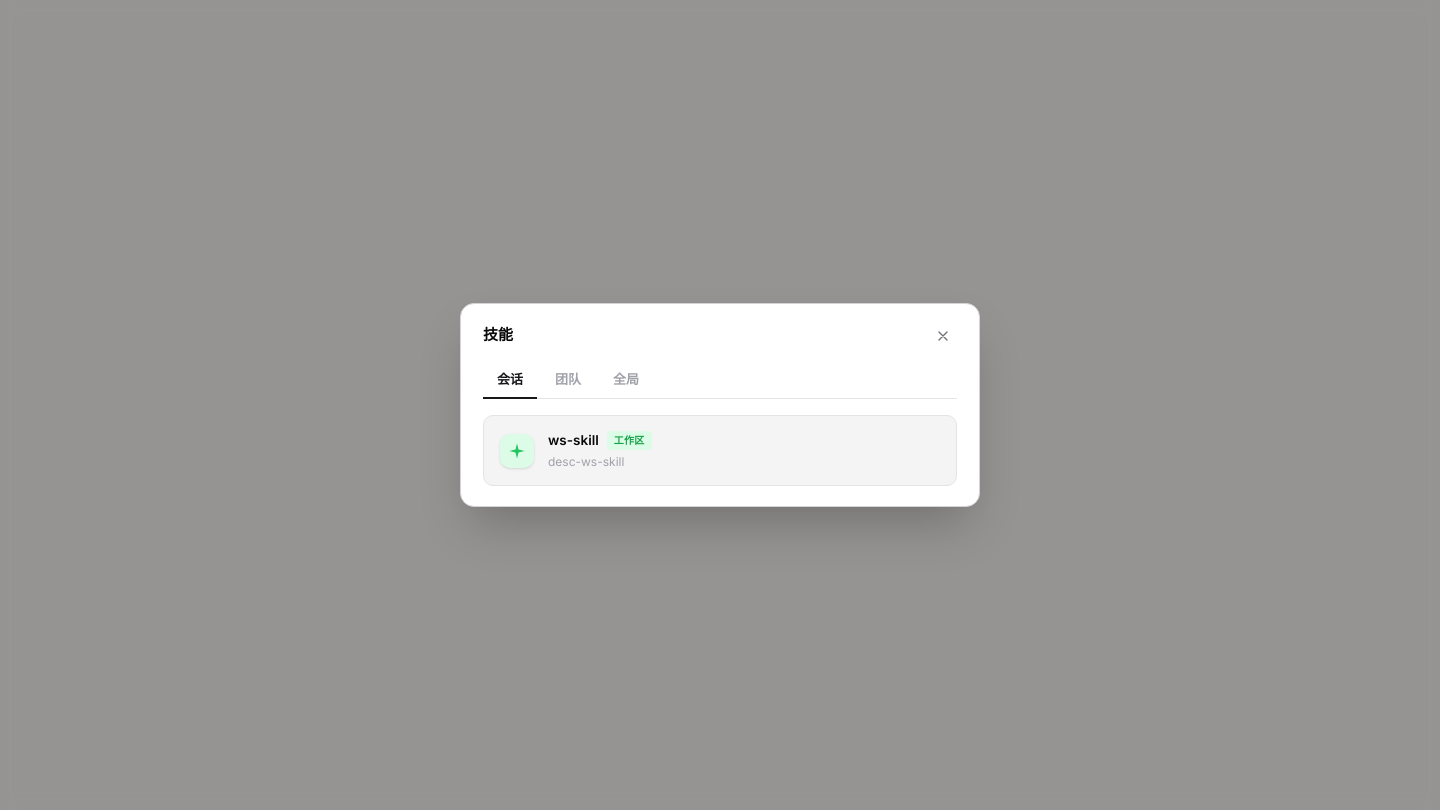
Test: ComponentSkillsModal — 3 tab 结构 › 切到 global tab → 渲染 builtin+app 组卡片（徽标 内置/应用）
The width and height of the screenshot is (1440, 810).
Click the tab "全局": (626, 379) [613,371,639,387]
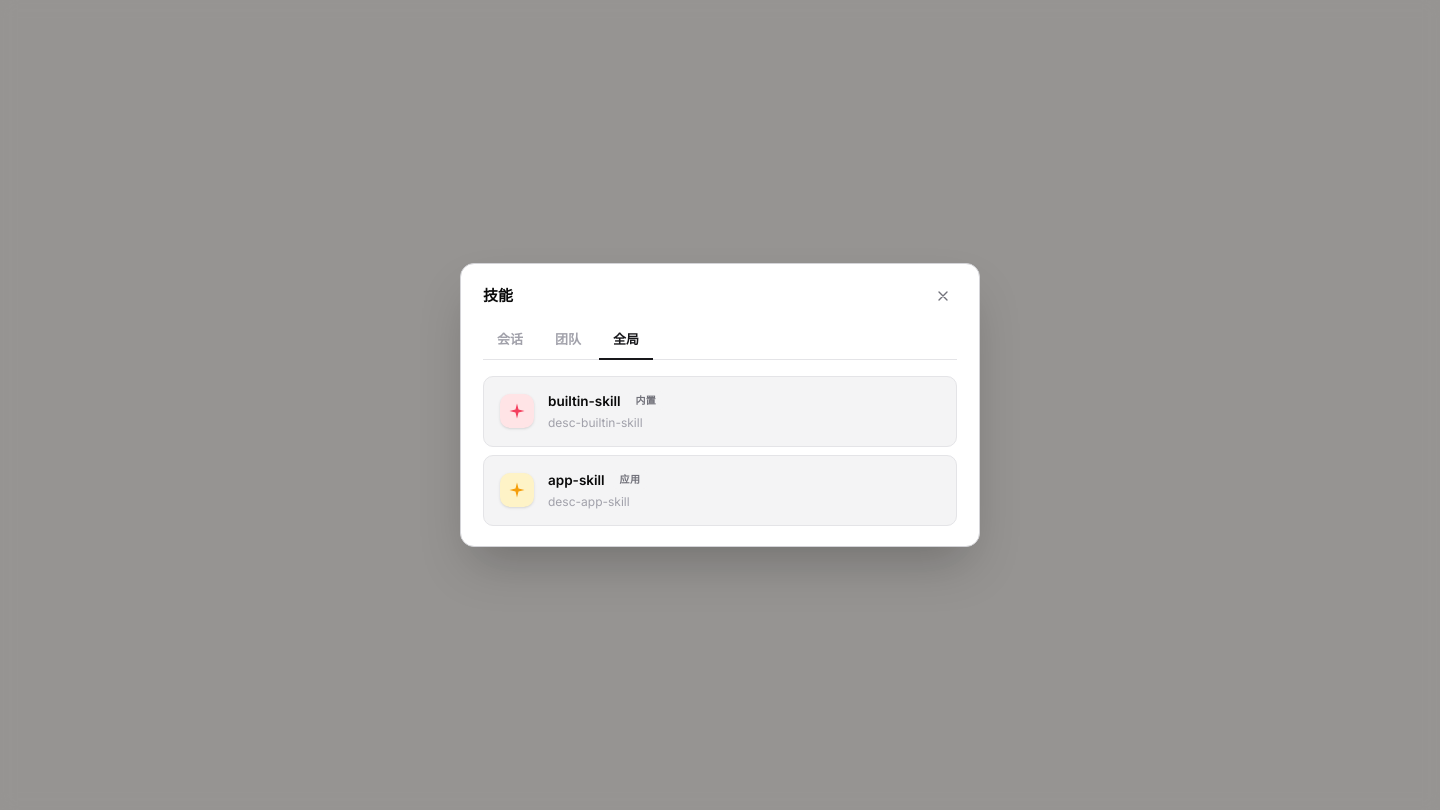
Now the text "builtin-skill" is shown, box [548,390,620,411]
Now the text "app-skill" is shown, box [548,470,605,490]
Now the text "内置" is shown, box [628,391,663,410]
